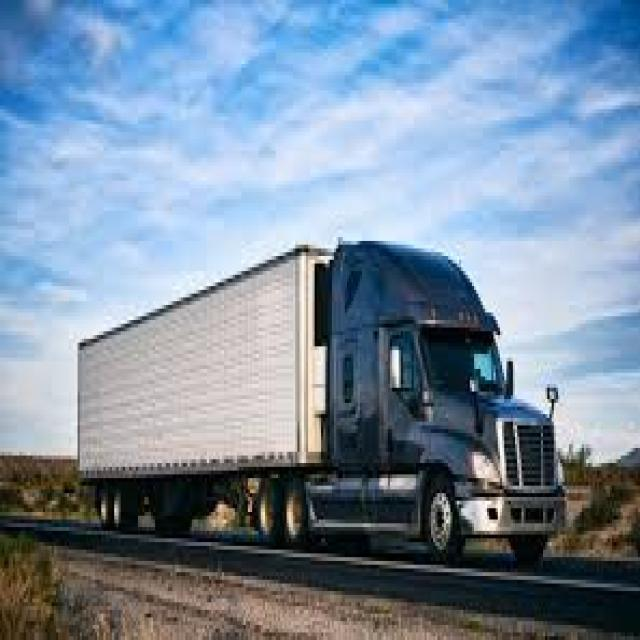covered: (73, 233, 567, 565)
